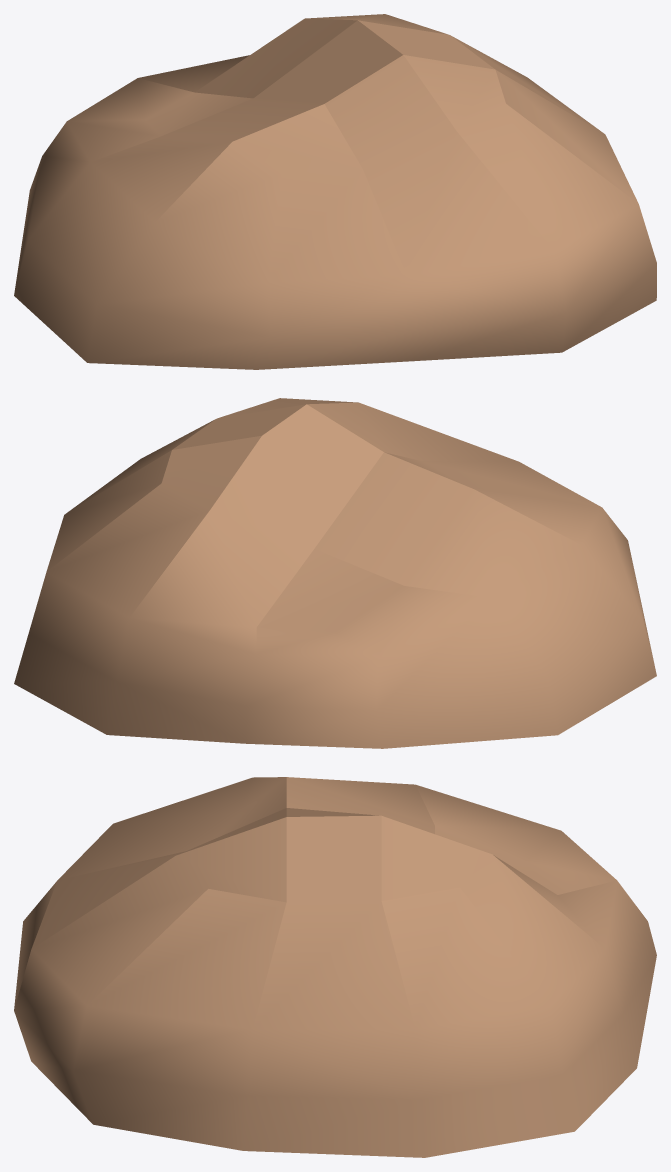
File: Rock2Clean.fbx
3 renders of one model, top to bottom at view 1: azimuth 30°, elevation 25°; view 2: azimuth 150°, elevation 25°; view 3: azimuth 270°, elevation 25°, orthographic. The views are drawn at different scales.
Visible parts, largest first — view 1: pCube1; view 2: pCube1; view 3: pCube1.
Boxes of the visible parts, bbox=[...] form: pCube1: bbox=[14, 14, 656, 369]; pCube1: bbox=[14, 398, 656, 748]; pCube1: bbox=[14, 777, 656, 1157].
Size of the model in its own units: 1.35 by 0.6004 by 1.31.
